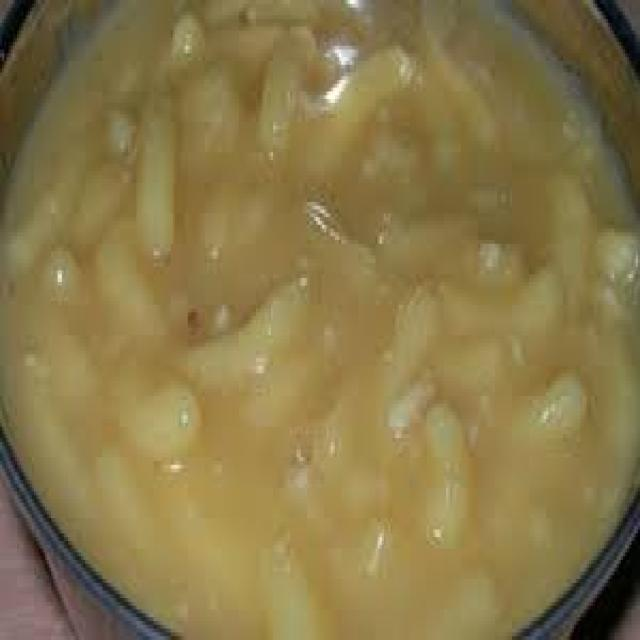paal kolukattai: (0, 1, 640, 640)
